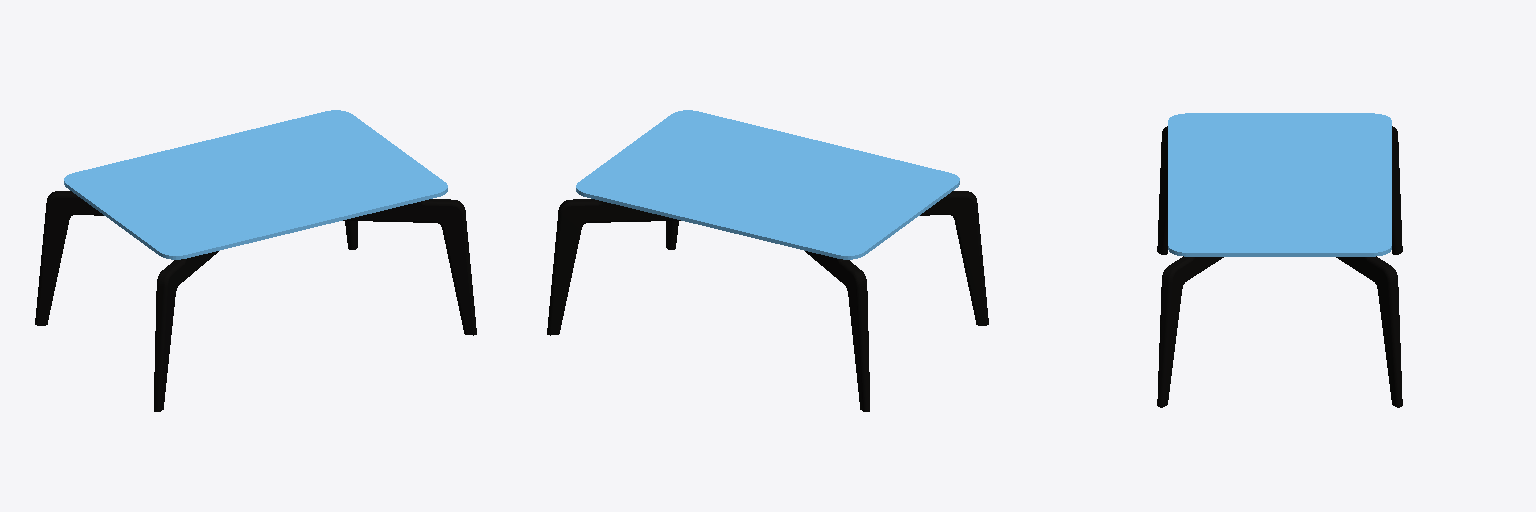
The model's file is table.obj.
3 views of the same model, side by side, from view 1: azimuth 30°, elevation 25°; view 2: azimuth 150°, elevation 25°; view 3: azimuth 270°, elevation 25° (orthographic).
Parts seen in each view (by area): view 1: Munich_Coffee_Table_Mesh01.001, Munich_Coffee_Table_legs_Mesh03.001; view 2: Munich_Coffee_Table_Mesh01.001, Munich_Coffee_Table_legs_Mesh03.001; view 3: Munich_Coffee_Table_Mesh01.001, Munich_Coffee_Table_legs_Mesh03.001.
Part boxes in pixels (bbox=[...]): Munich_Coffee_Table_Mesh01.001: bbox=[64, 110, 447, 259]; Munich_Coffee_Table_legs_Mesh03.001: bbox=[35, 191, 476, 411]; Munich_Coffee_Table_Mesh01.001: bbox=[576, 110, 959, 259]; Munich_Coffee_Table_legs_Mesh03.001: bbox=[547, 191, 988, 411]; Munich_Coffee_Table_Mesh01.001: bbox=[1168, 113, 1391, 256]; Munich_Coffee_Table_legs_Mesh03.001: bbox=[1157, 126, 1402, 407].
Size of the model in its own units: 0.8802 by 0.3801 by 0.5802.